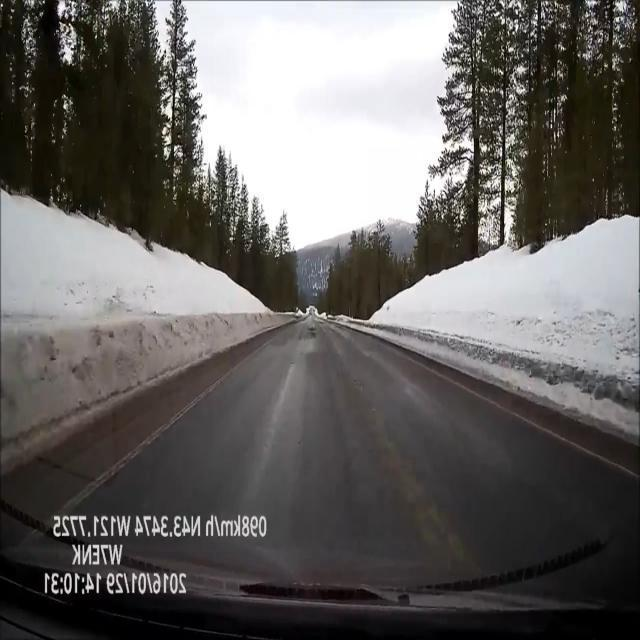pothole: (303, 324, 319, 341)
